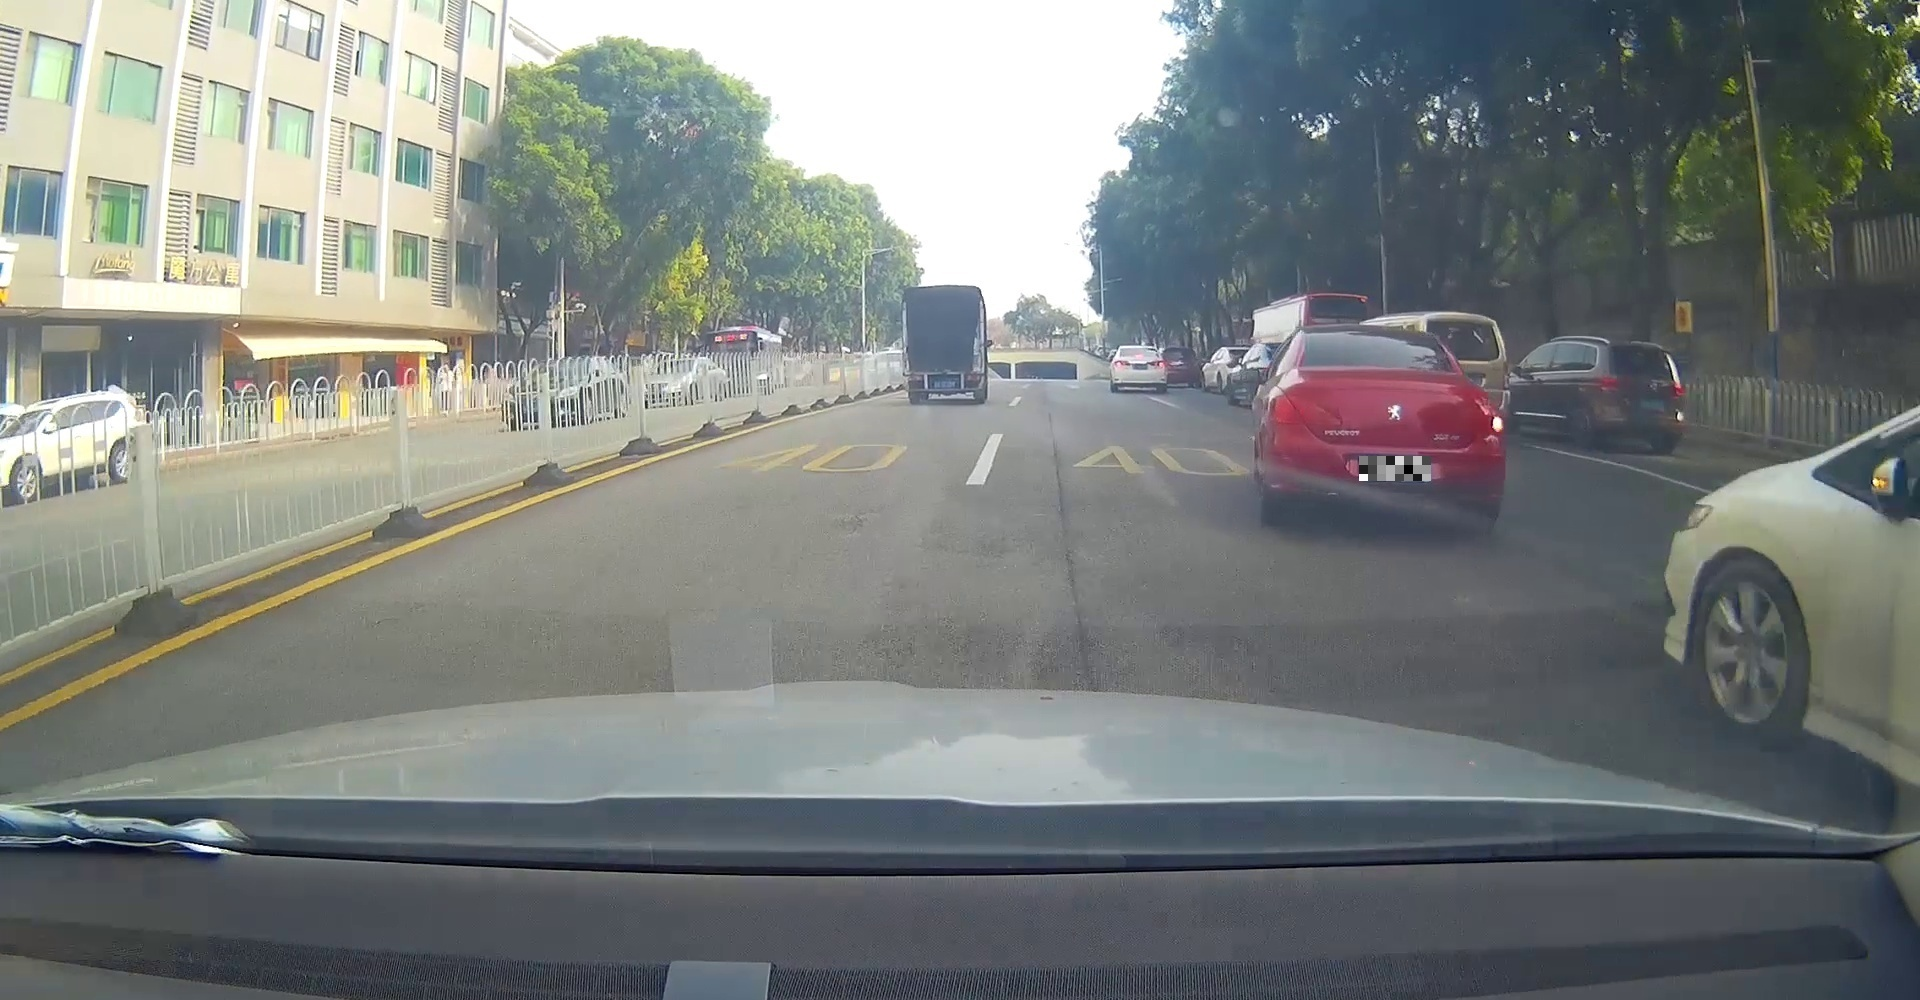L_light: (1274, 395, 1300, 423), (1603, 378, 1619, 390), (1114, 360, 1130, 367), (908, 376, 921, 379)
R_light: (1490, 414, 1503, 434), (1672, 382, 1683, 395), (1153, 360, 1166, 368), (968, 376, 979, 379)
T_light: (1357, 334, 1382, 338), (1630, 346, 1646, 352), (1137, 355, 1143, 358), (936, 291, 947, 292)
day-brake: (1111, 346, 1167, 393)
day-no: (902, 286, 985, 402), (1597, 341, 1684, 453)
day-right: (1269, 327, 1503, 533)
plate_1: (1359, 456, 1431, 481)
